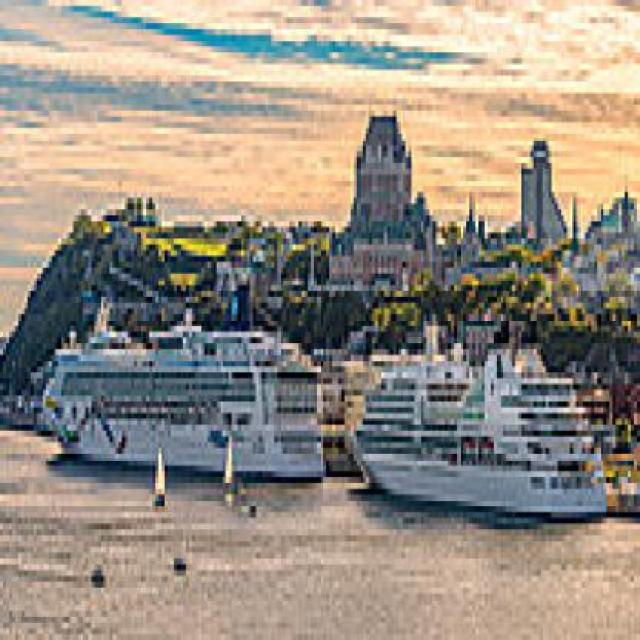cruise: (32, 286, 339, 507), (345, 333, 620, 542)
